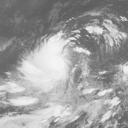cyclone: (17, 33, 74, 92)
